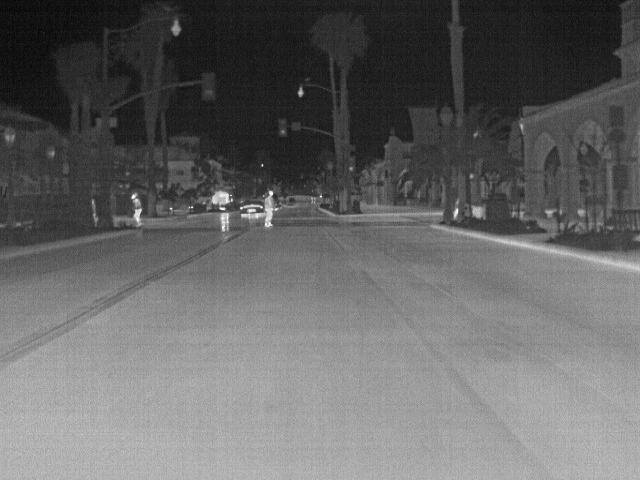car: (237, 198, 261, 218)
person: (260, 188, 275, 230), (128, 192, 143, 224)
